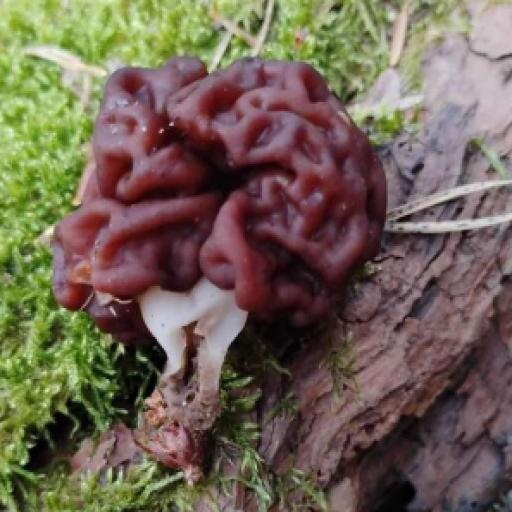mushroom: (50, 47, 385, 410)
